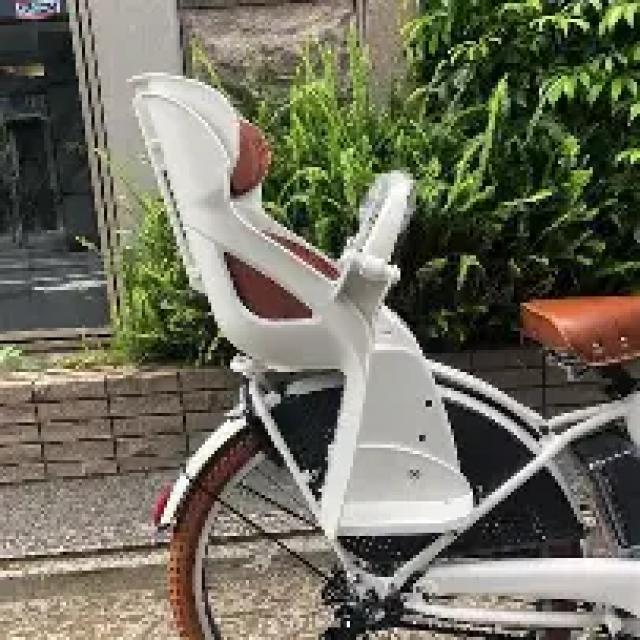battery: (567, 428, 640, 557)
childseat: (126, 71, 476, 539)
